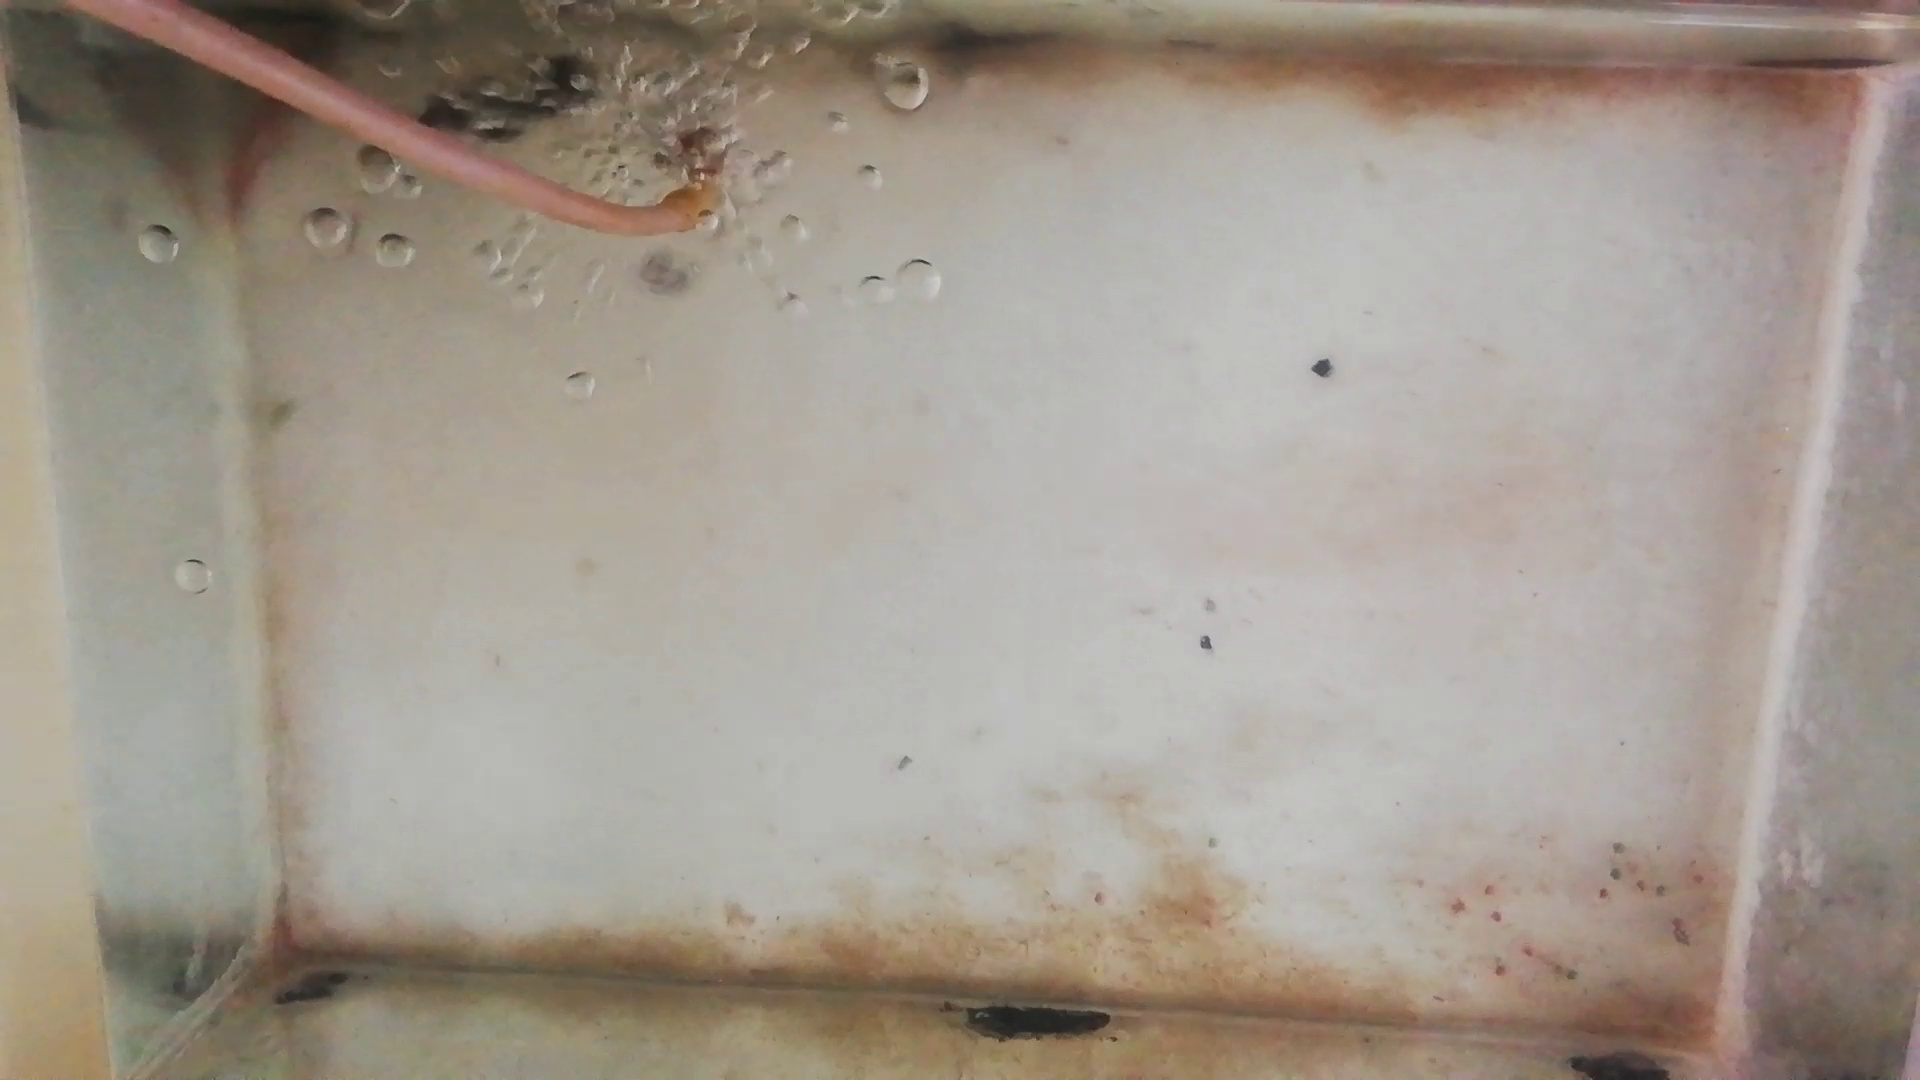fish: (419, 57, 608, 138), (228, 86, 286, 224)
